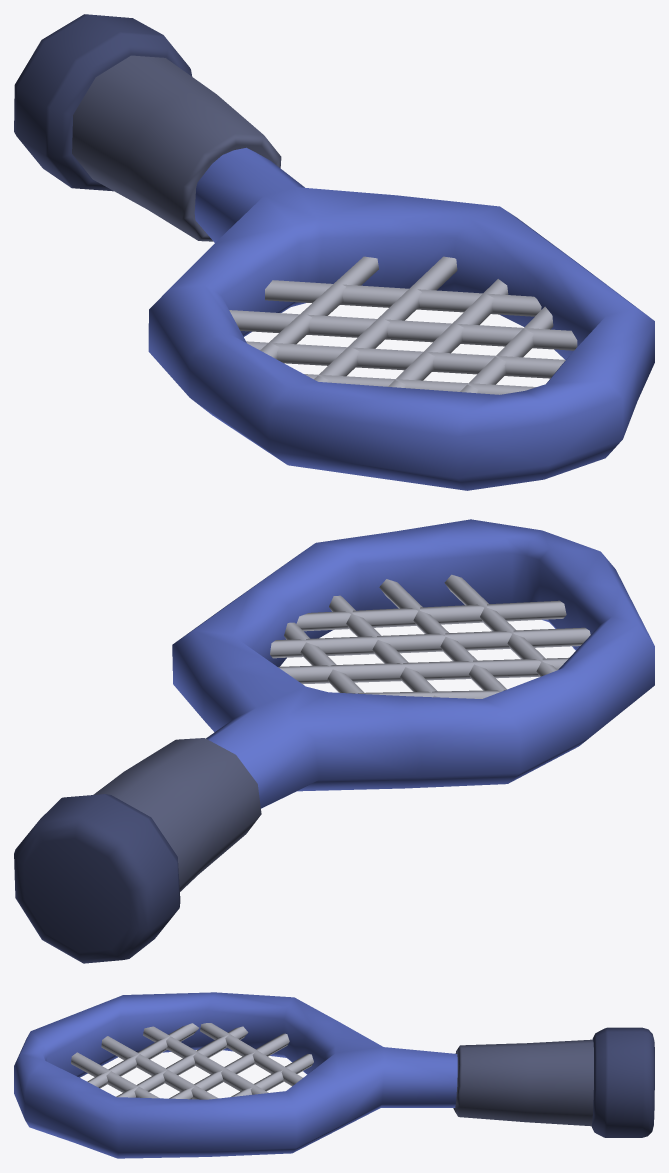
The model's file is props_racket.fbx.
3 views of the same model, one above another, from view 1: azimuth 30°, elevation 25°; view 2: azimuth 150°, elevation 25°; view 3: azimuth 270°, elevation 25° (orthographic). The views are drawn at different scales.
Visible parts, largest first — view 1: Racket; view 2: Racket; view 3: Racket.
Part boxes in pixels (x1,y1,x2,y2): Racket: (14, 14, 654, 490); Racket: (14, 519, 654, 963); Racket: (14, 992, 654, 1158).
Size of the model in its own units: 0.4426 by 0.9562 by 0.1712.
